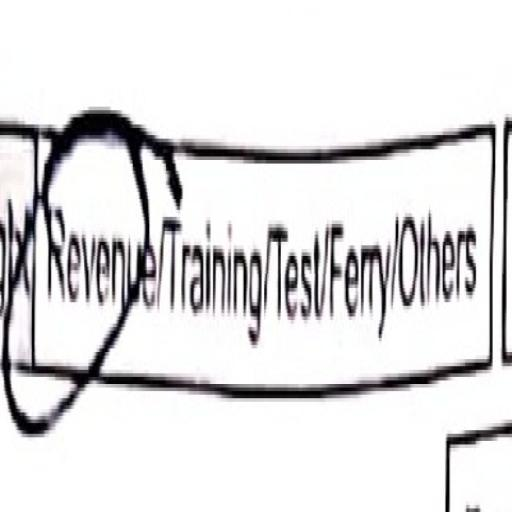check: (36, 44, 156, 442)
